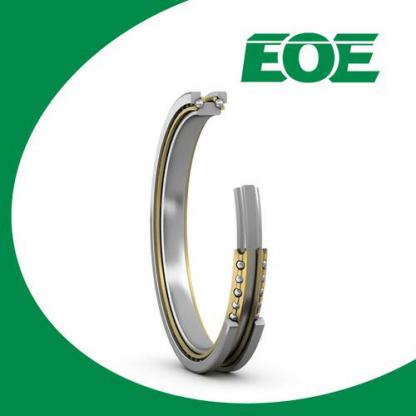FOD: (147, 84, 276, 380)
